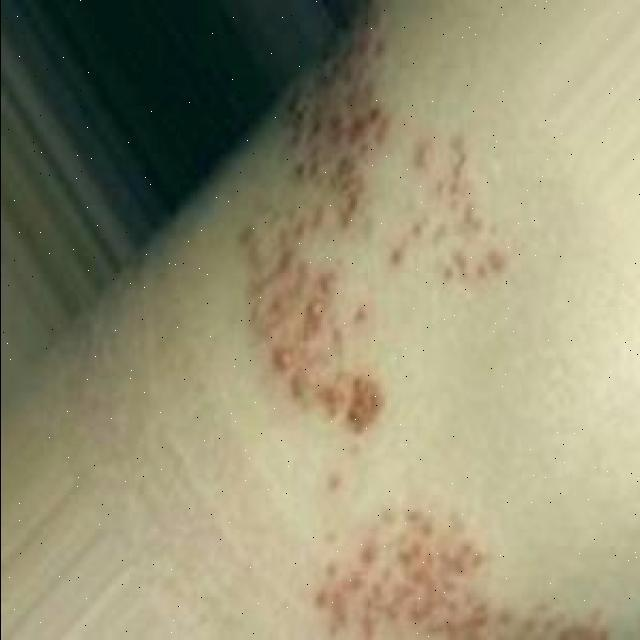Shingles: (237, 1, 509, 445), (308, 474, 616, 640)
